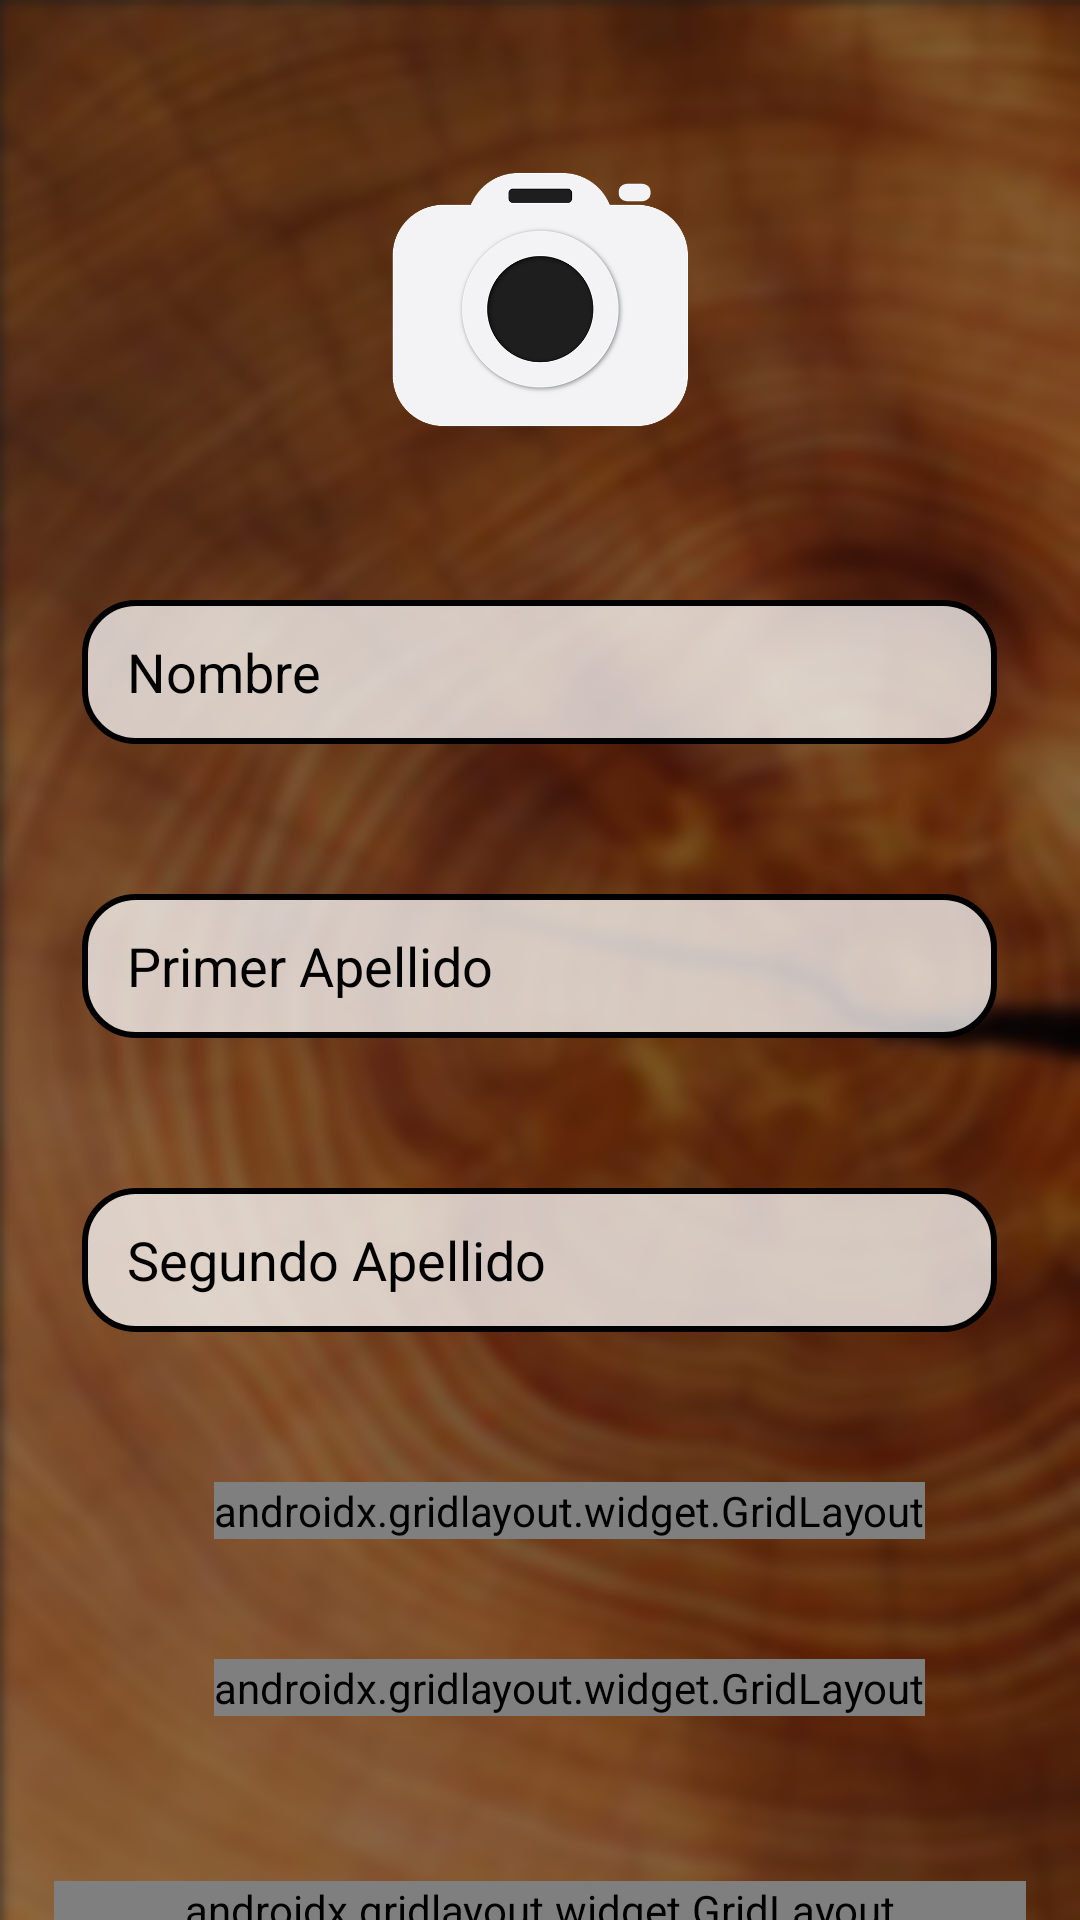

Point at icon controls on the screen. Image size 1080×1920, points as [x,y].
camera: [540,299]
